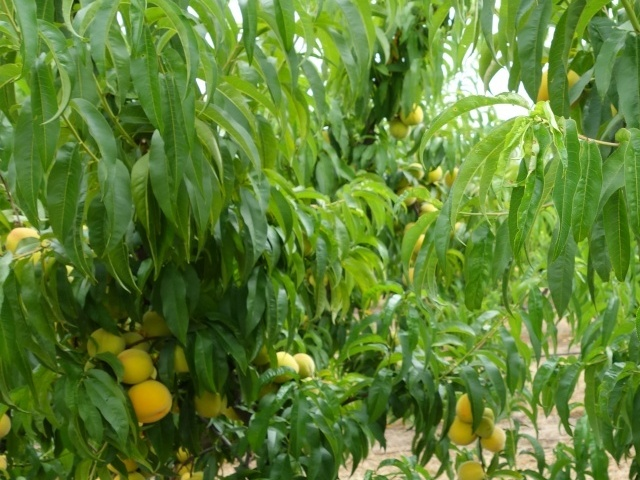peach: (118, 379, 174, 426), (535, 65, 585, 117), (109, 340, 158, 387), (80, 325, 128, 366), (2, 221, 41, 259), (266, 349, 301, 387), (189, 387, 224, 424), (441, 414, 479, 448), (106, 446, 146, 477), (136, 309, 175, 340), (451, 391, 485, 426), (164, 344, 197, 378), (291, 347, 322, 379), (396, 99, 428, 130), (482, 426, 510, 456), (469, 413, 497, 441), (454, 458, 487, 480), (1, 405, 16, 443)
